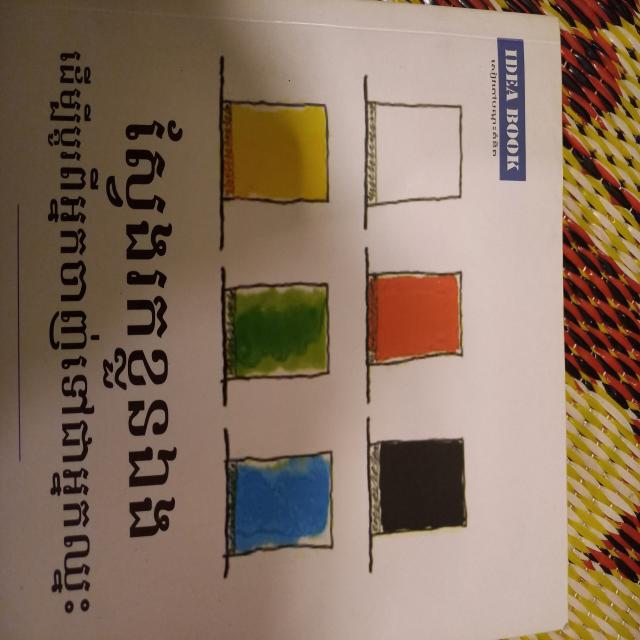Yolov11kh: (38, 45, 102, 621), (103, 115, 187, 550), (487, 56, 500, 161)
